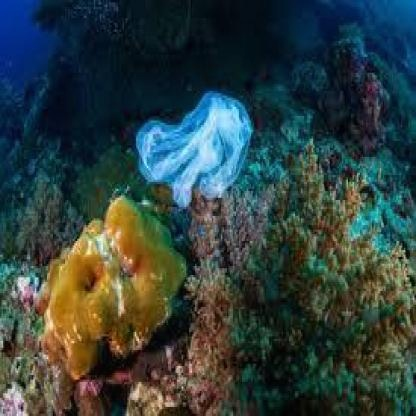pbag: (130, 84, 259, 207)
